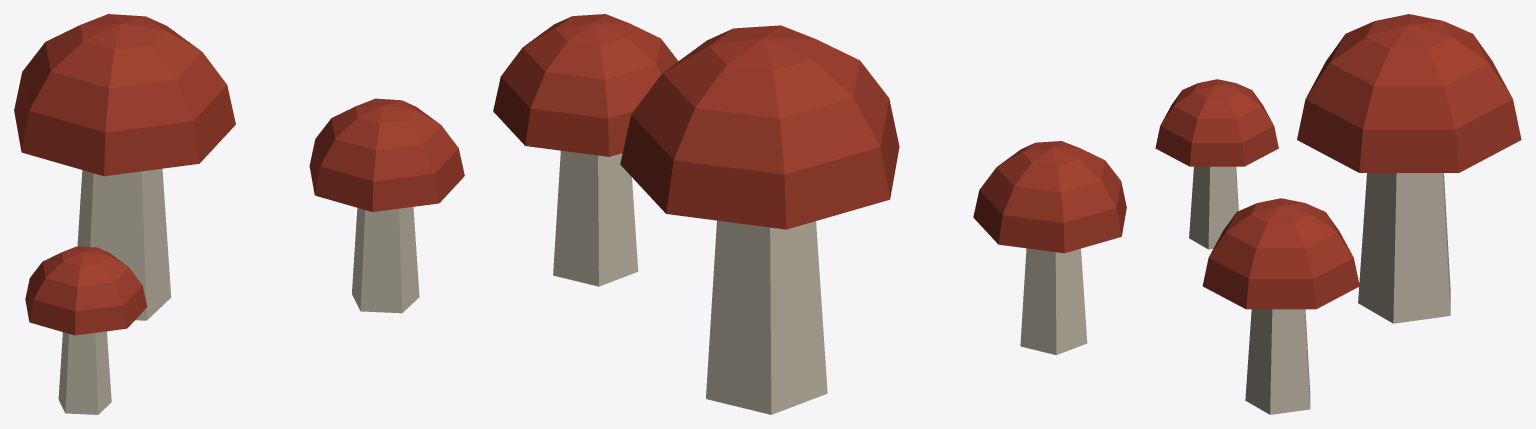
Rendered from mushroom.glb.
The picture shows the model from 3 angles, left to right: view 1: azimuth 30°, elevation 25°; view 2: azimuth 150°, elevation 25°; view 3: azimuth 270°, elevation 25°; orthographic projection. The views are drawn at different scales.
Parts seen in each view (by area): view 1: part_0; view 2: part_0; view 3: part_0.
Part boxes in pixels (box(x1,y1,x2,y2)): part_0: box(14, 14, 464, 414); part_0: box(493, 14, 1126, 414); part_0: box(1155, 14, 1521, 414).
Size of the model in its own units: 0.4063 by 0.24 by 0.286.
